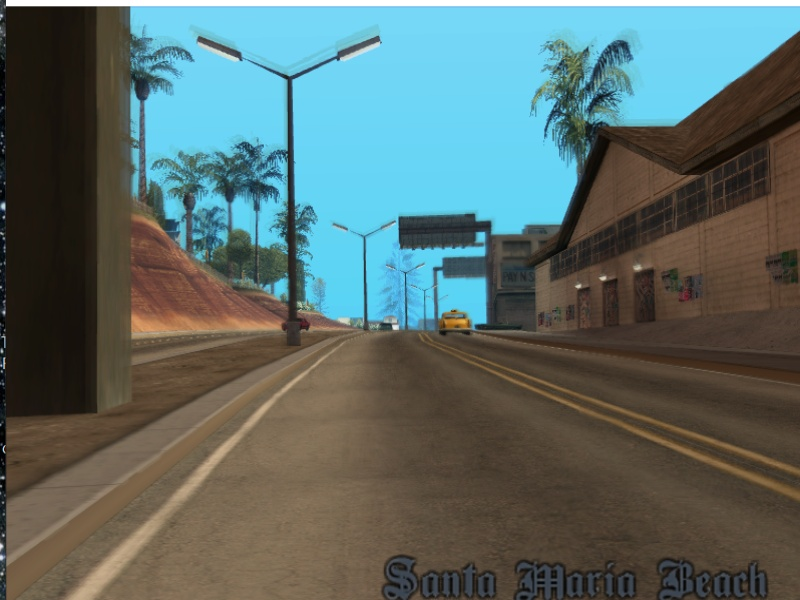pole: (280, 76, 306, 348), (361, 233, 370, 334), (401, 271, 412, 335)
tree: (136, 93, 151, 203)
vehicle: (436, 309, 472, 334)
